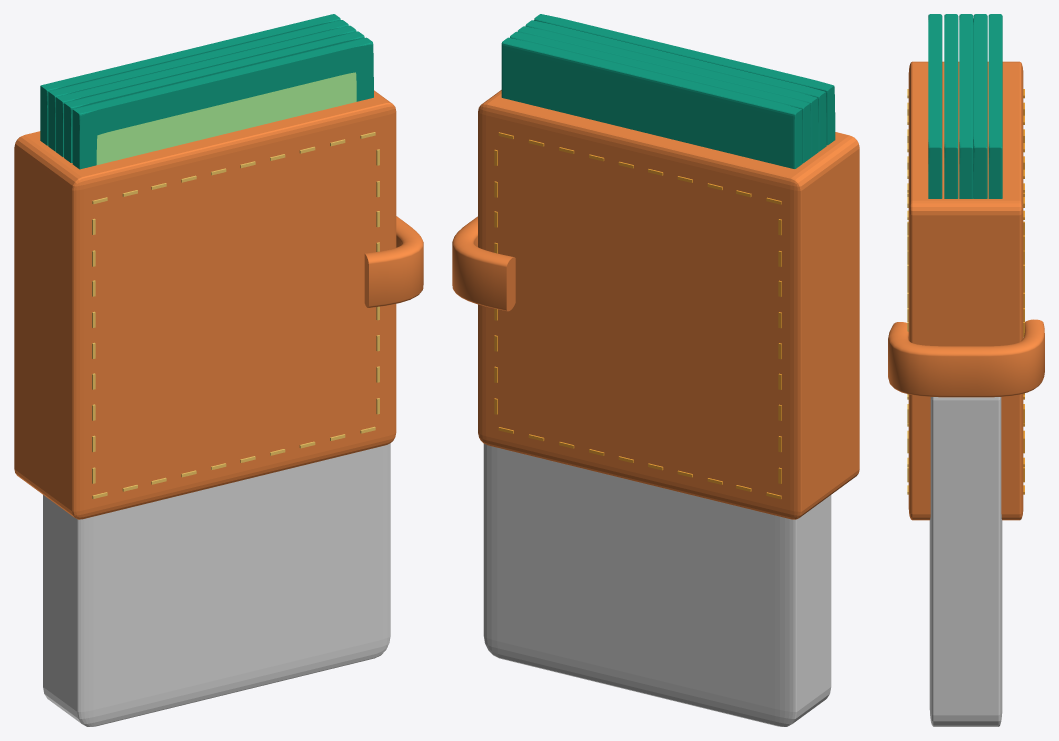
The model's file is money.glb.
3 views of the same model, side by side, from view 1: azimuth 30°, elevation 25°; view 2: azimuth 150°, elevation 25°; view 3: azimuth 270°, elevation 25° (orthographic). The views are drawn at different scales.
Parts seen in each view (by area): view 1: Cube, Cube.001, Plane.002, BézierCurve, Plane.001, Plane.005, Plane.003, Plane.004, Cube.023; view 2: Cube, Cube.001, Plane.005, BézierCurve, Plane.002, Plane.004, Plane.001, Plane.003, Cube.002; view 3: Cube, Cube.001, BézierCurve, Plane.004, Plane.005, Plane.001, Plane.003, Plane.002, Cube.002, Cube.023.
Boxes of the visible parts, bbox=[...] form: Cube: bbox=[14, 90, 396, 519]; Cube.001: bbox=[43, 443, 390, 726]; Plane.002: bbox=[72, 37, 373, 169]; BézierCurve: bbox=[364, 216, 423, 307]; Plane.001: bbox=[64, 31, 364, 162]; Plane.005: bbox=[40, 14, 340, 145]; Plane.003: bbox=[56, 25, 356, 157]; Plane.004: bbox=[48, 20, 348, 151]; Cube.023: bbox=[92, 132, 379, 498]; Cube: bbox=[478, 90, 859, 519]; Cube.001: bbox=[483, 444, 831, 726]; Plane.005: bbox=[501, 37, 802, 168]; BézierCurve: bbox=[452, 216, 515, 311]; Plane.002: bbox=[534, 14, 835, 145]; Plane.004: bbox=[510, 31, 810, 163]; Plane.001: bbox=[525, 20, 826, 151]; Plane.003: bbox=[517, 26, 818, 157]; Cube.002: bbox=[494, 132, 781, 499]; Cube: bbox=[908, 61, 1023, 520]; Cube.001: bbox=[929, 397, 1002, 726]; BézierCurve: bbox=[888, 319, 1044, 397]; Plane.004: bbox=[973, 14, 987, 198]; Plane.005: bbox=[988, 14, 1002, 198]; Plane.001: bbox=[944, 14, 958, 198]; Plane.003: bbox=[959, 14, 973, 198]; Plane.002: bbox=[928, 14, 942, 198]; Cube.002: bbox=[1023, 89, 1024, 494]; Cube.023: bbox=[907, 89, 908, 494].
Bounding box in the file's own units: 2.65 × 4.41 × 1.09.
